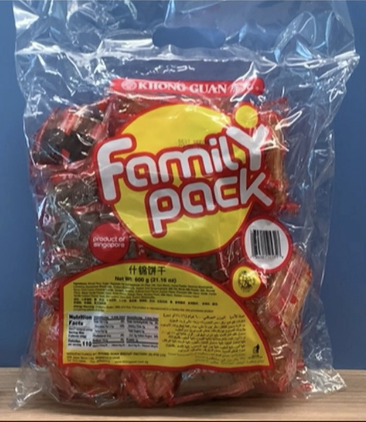cookies_600g-699g: (47, 78, 302, 371)
